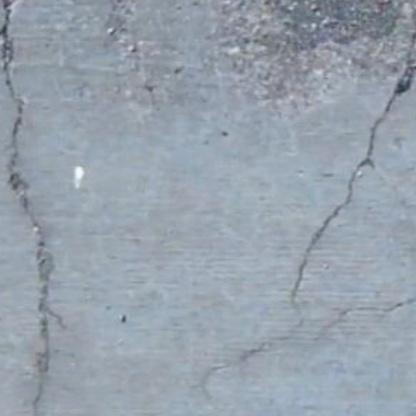Cracks: (188, 0, 416, 405), (0, 0, 69, 416)
